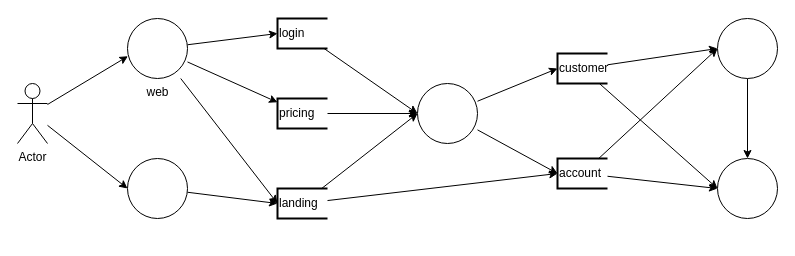
The diagram is 795 pixels wide and 256 high, and some of its shapes have lost their labels. Each missing label, with the centre of its shape:
app: point 447,113
payment: point 747,188
process: point 747,48
social midias: point 157,188
